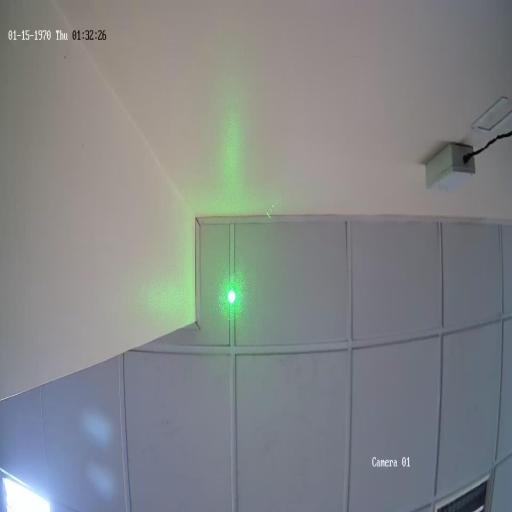laser: (222, 276, 241, 311)
